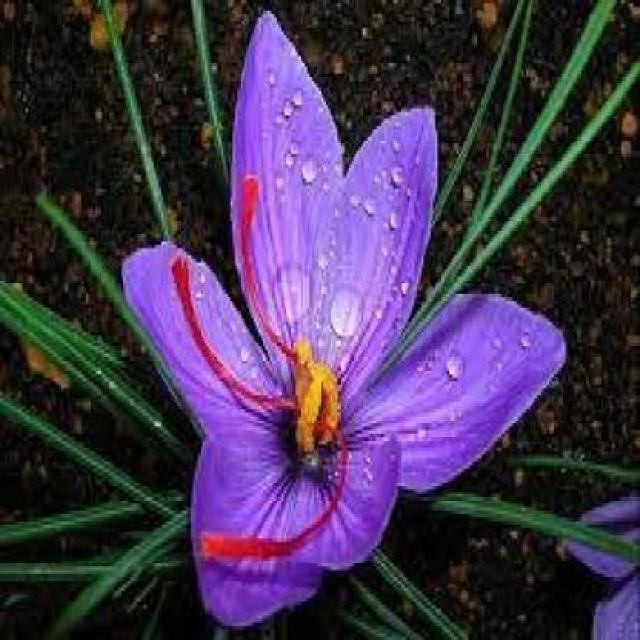saffron open: (124, 20, 566, 626)
